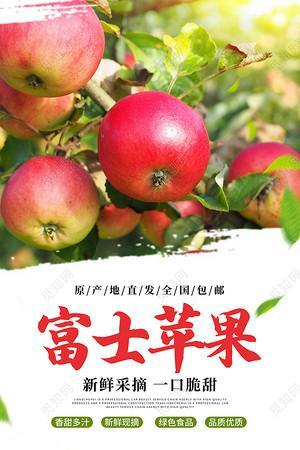apple: (96, 88, 208, 201), (1, 1, 102, 95), (1, 155, 101, 249), (223, 142, 300, 232)
